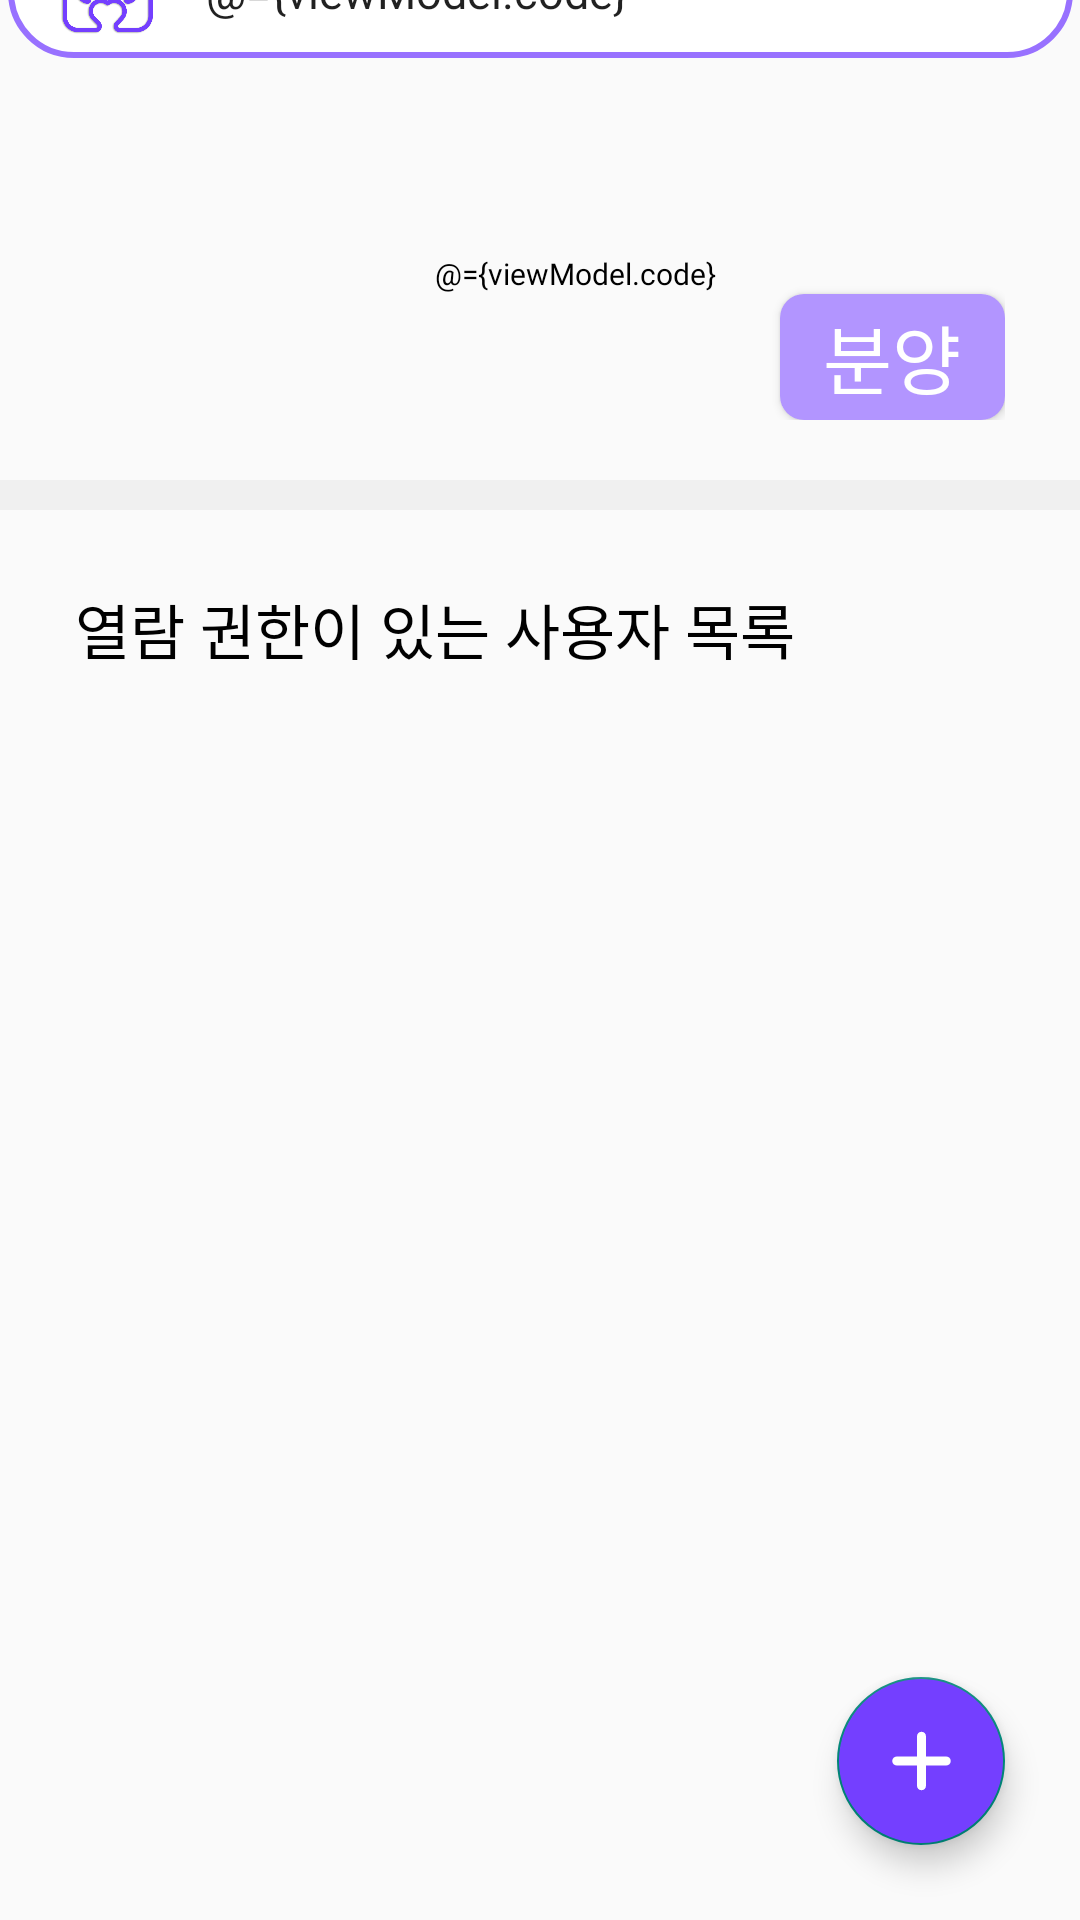

Point at icon controls on the screen. Image size 1080px x 1920px, points as (x=x, y=y).
plus: (x=921, y=1761)
